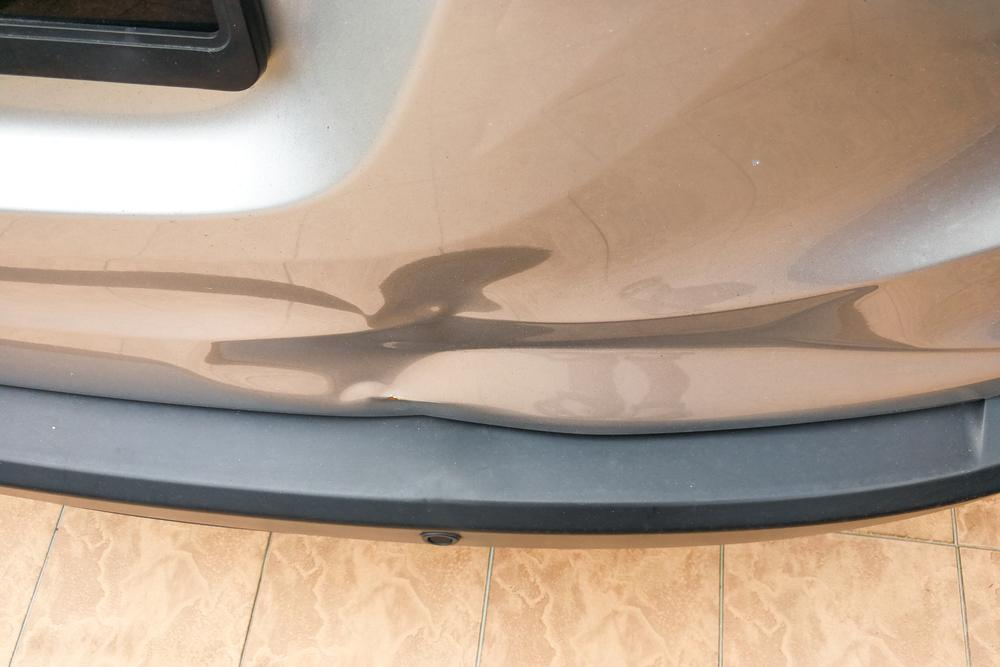dent: (206, 246, 688, 421)
